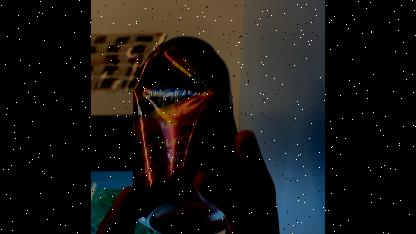Can: (129, 29, 246, 234)
